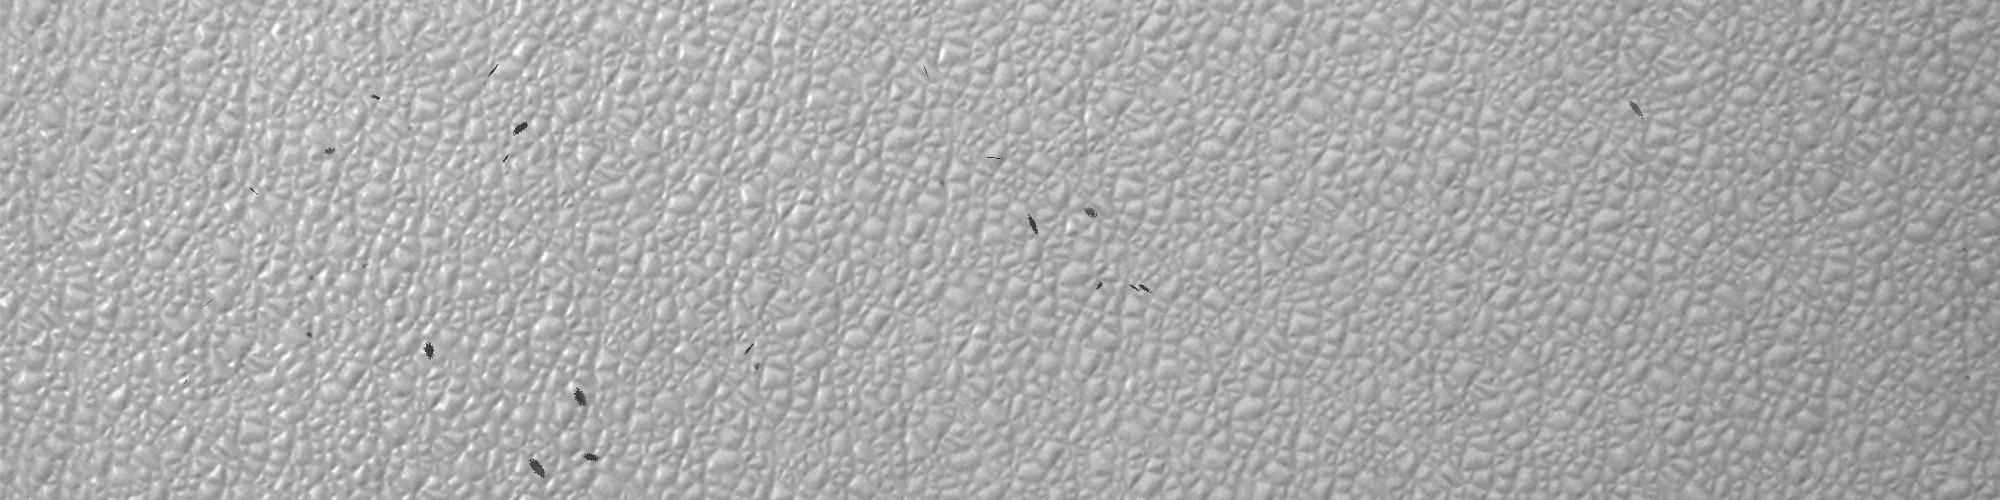Decomposed: (477, 59, 514, 85), (981, 145, 1015, 167), (522, 454, 554, 477), (511, 114, 537, 142), (1129, 279, 1158, 302), (1625, 96, 1648, 122), (745, 346, 767, 374), (416, 339, 437, 365), (321, 142, 348, 162), (574, 380, 594, 406), (578, 449, 599, 472), (1088, 274, 1112, 295), (1082, 199, 1105, 219), (1020, 216, 1043, 236), (496, 151, 518, 168), (353, 256, 374, 270), (253, 184, 269, 198), (369, 91, 381, 108), (302, 329, 315, 342), (311, 269, 316, 281)
